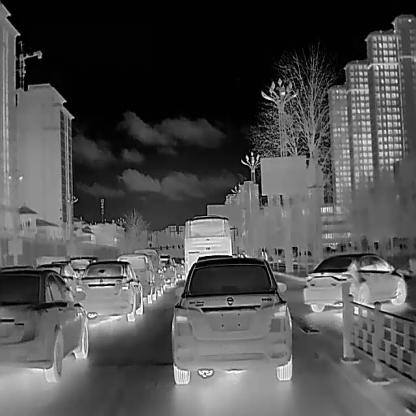bus: (182, 213, 233, 286)
car: (170, 255, 294, 382), (6, 266, 91, 381), (302, 249, 408, 313), (74, 258, 145, 321), (116, 252, 155, 303)
